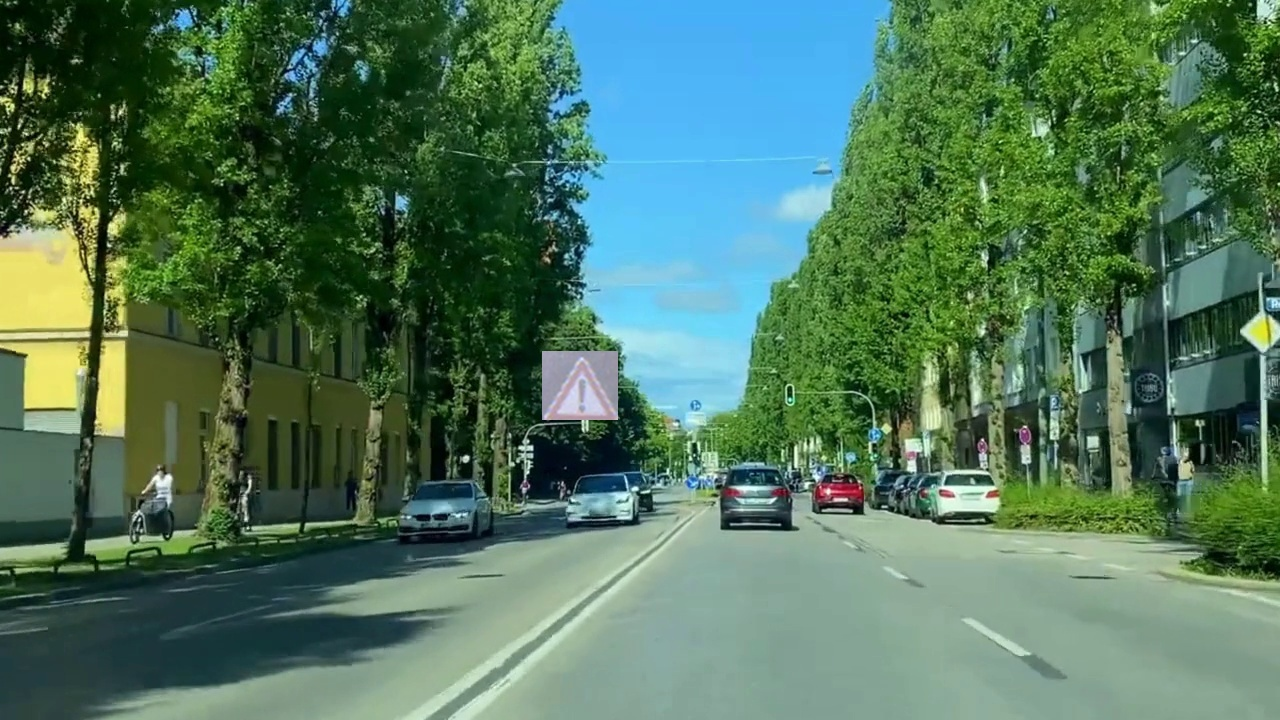Caution: (542, 351, 618, 420)
